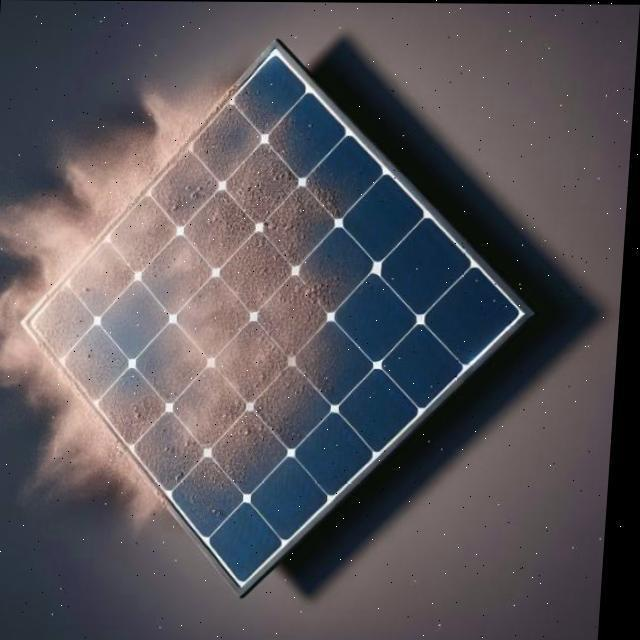Anomaly Solar Panel: (0, 42, 532, 590)
Surface Contaminant: (0, 68, 464, 536)
